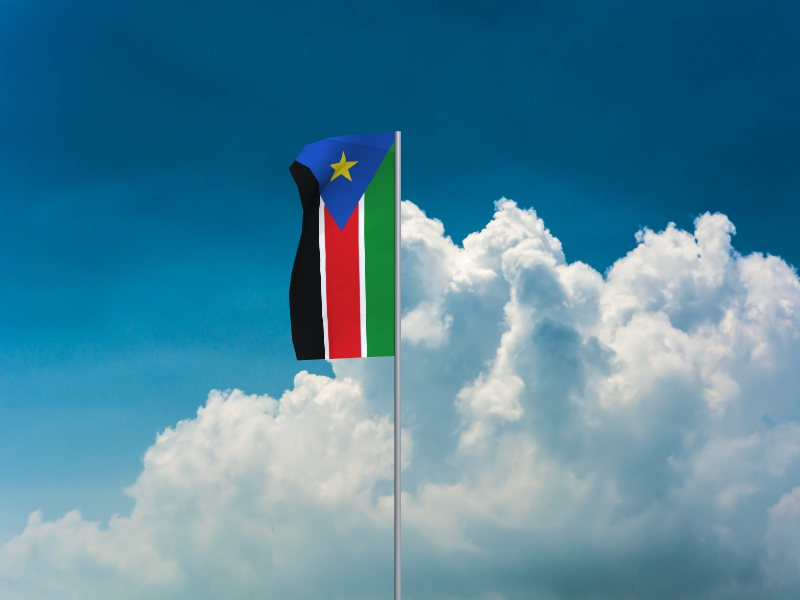ss: (288, 133, 395, 363)
